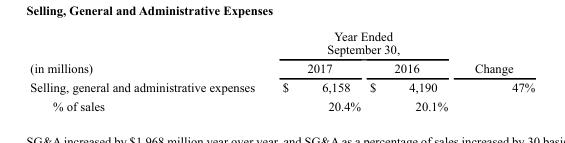table: (29, 29, 534, 112)
table column: (29, 29, 267, 112), (267, 29, 364, 112), (364, 29, 460, 112), (460, 29, 534, 112)
table column header: (29, 29, 534, 77)
table row: (29, 29, 534, 58), (29, 58, 534, 77), (29, 77, 534, 96), (29, 96, 534, 112)
table spanning cell: (29, 29, 267, 77), (267, 29, 460, 58), (460, 29, 534, 77)
